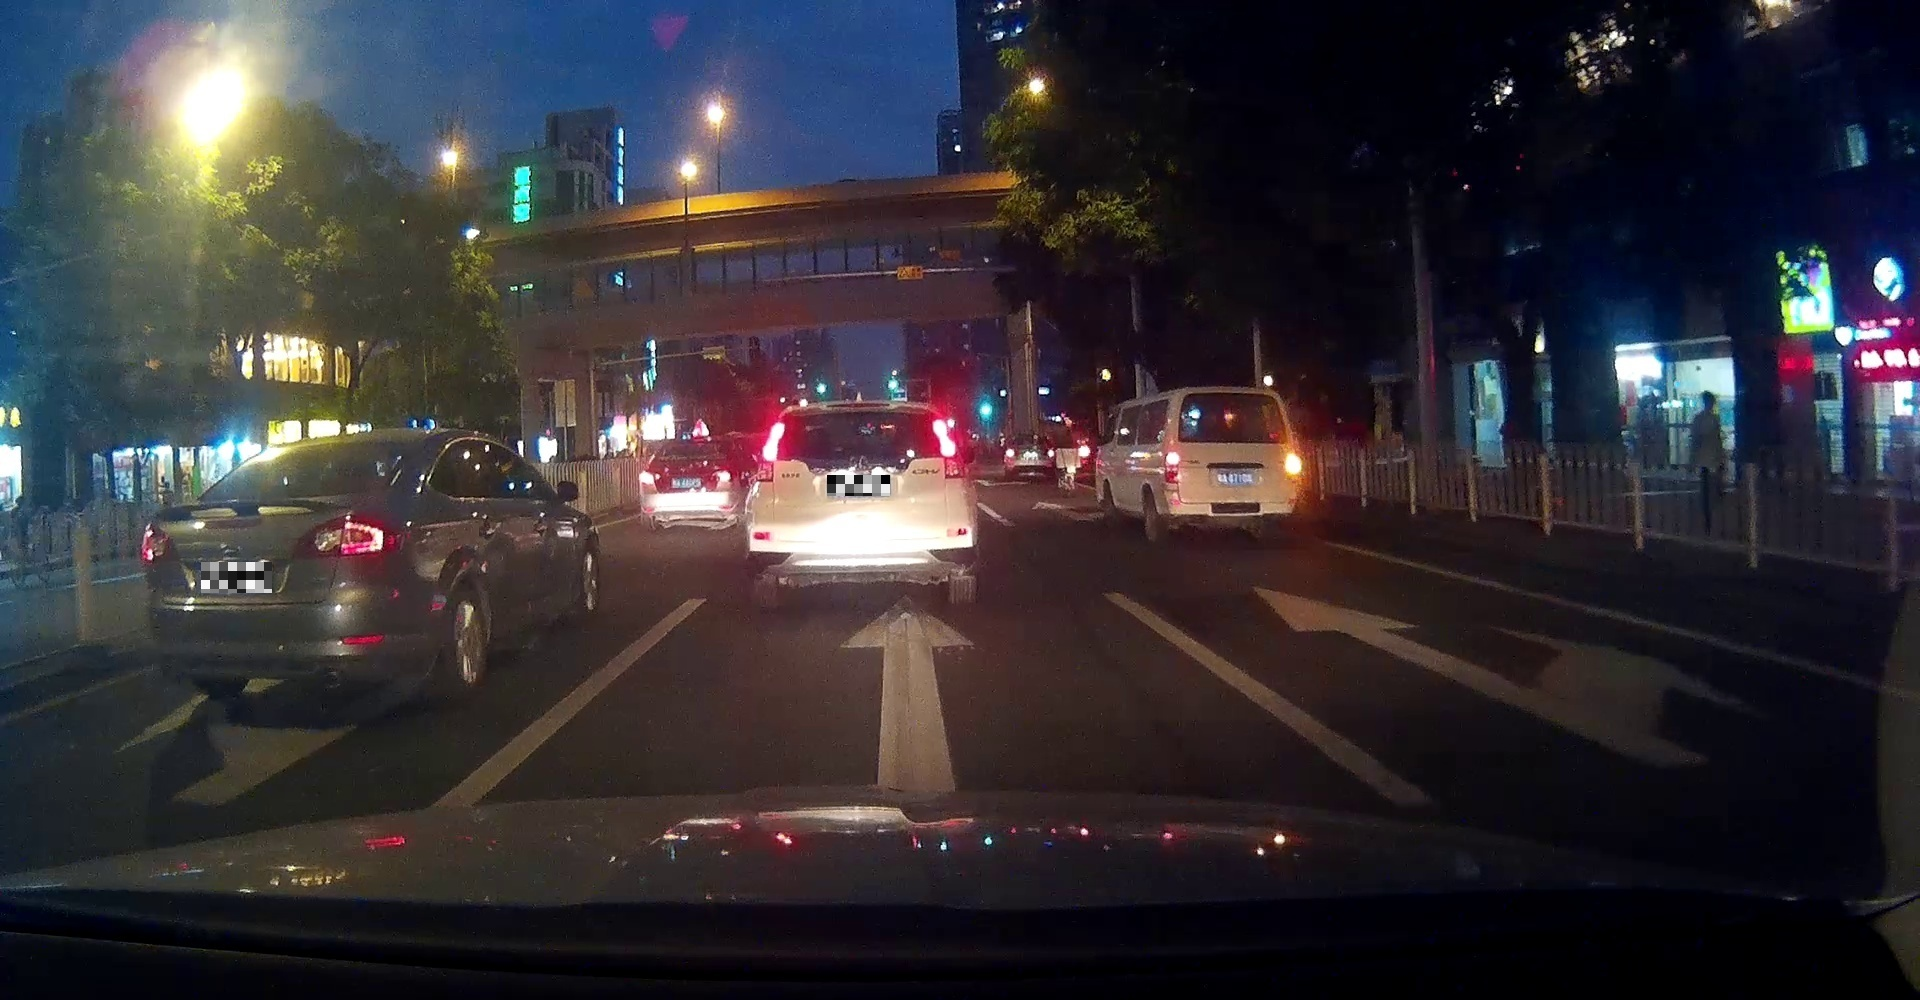L_light: (756, 420, 783, 482), (140, 523, 180, 563), (1164, 451, 1180, 484), (639, 471, 660, 485)
R_light: (292, 511, 403, 558), (931, 418, 966, 478), (1283, 451, 1302, 478), (710, 470, 731, 482)
T_light: (312, 444, 349, 454), (847, 411, 877, 419), (1223, 393, 1248, 401), (692, 442, 709, 447)
night-no: (141, 429, 422, 699), (747, 401, 977, 604), (639, 438, 733, 529)
night-right: (1164, 386, 1302, 541)
plate_1: (201, 562, 272, 593)
plate_2: (827, 475, 890, 496)
